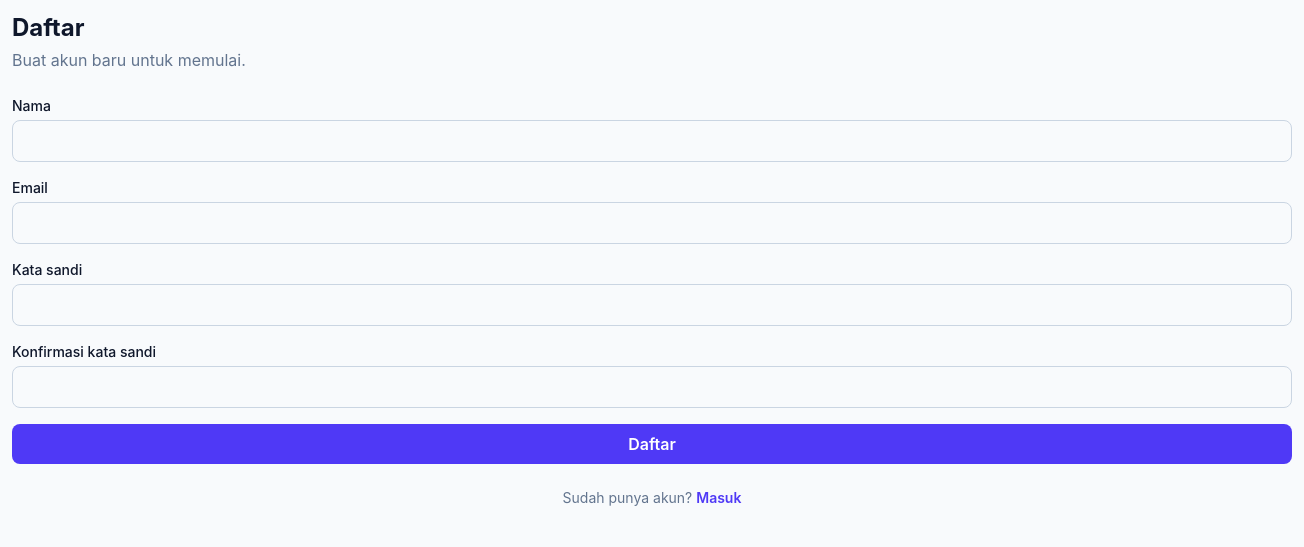
Test case: RegisterPage › menampilkan pesan jika konfirmasi kata sandi tidak sama
Type "Gian" into the field labelled "Nama". click: [652, 141]
box: [12,120,1292,162]
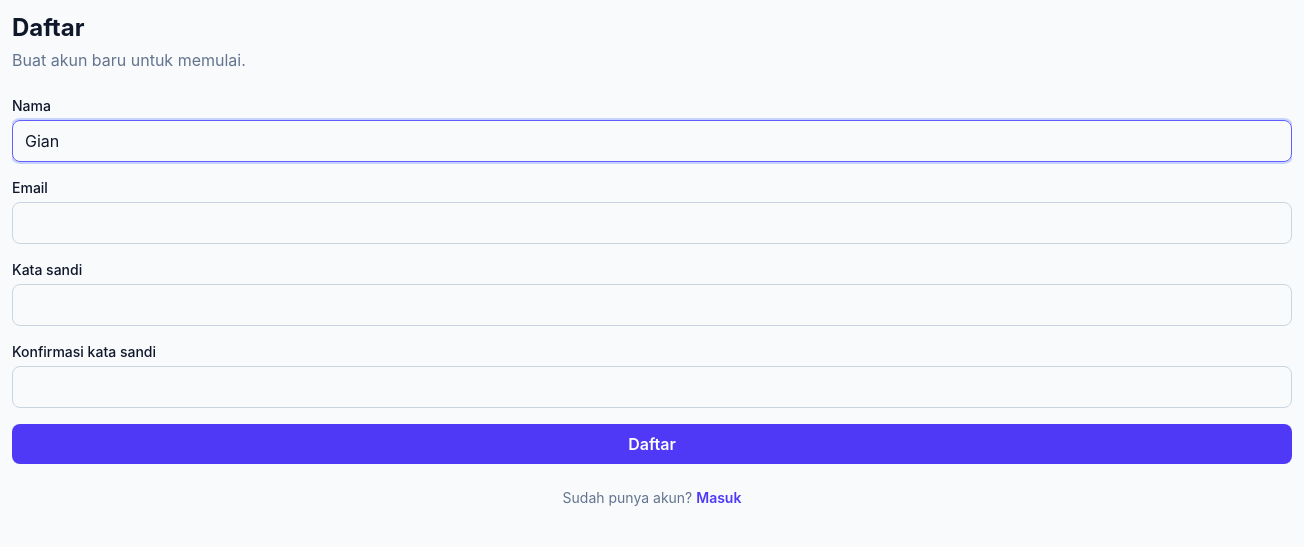
Type "g@mail.com" into the field labelled "Email". click: [652, 223]
box: [12,202,1292,244]
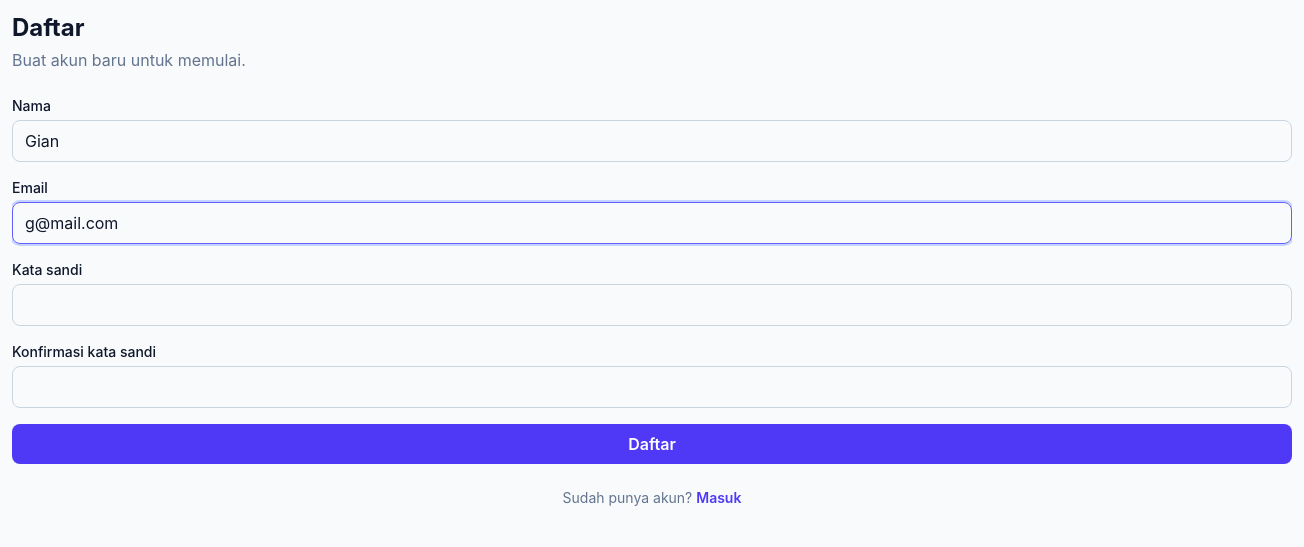
Type "rahasia" into the password field labelled "Kata sandi". click: [652, 305]
box: [12,284,1292,326]
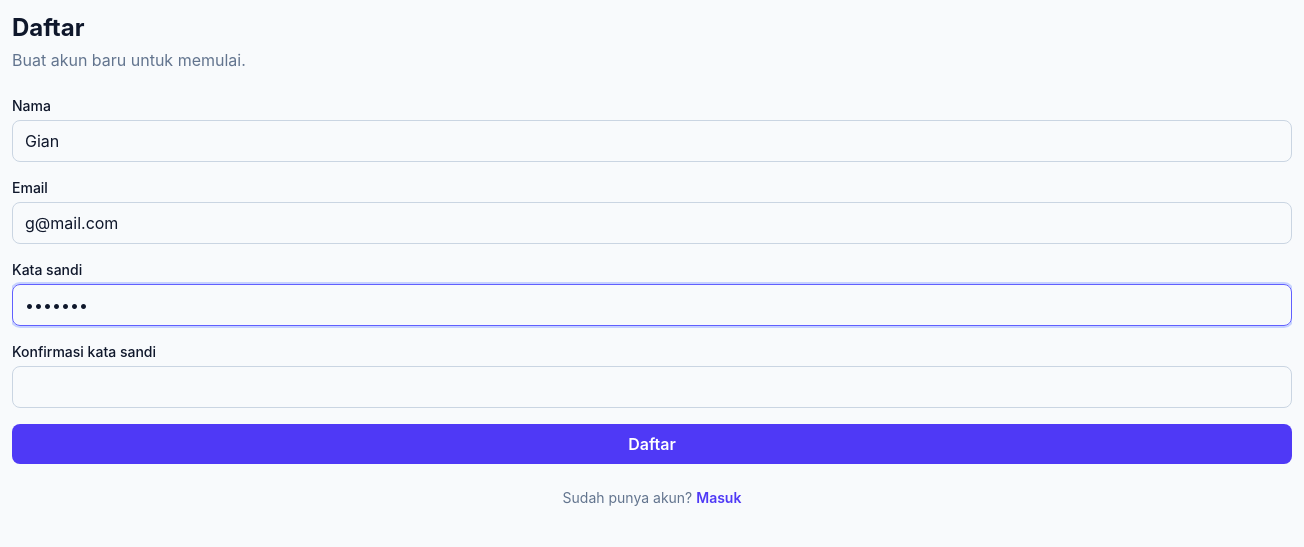
Type "beda" into the password field labelled "Konfirmasi kata sandi". click: [652, 387]
box: [12,366,1292,408]
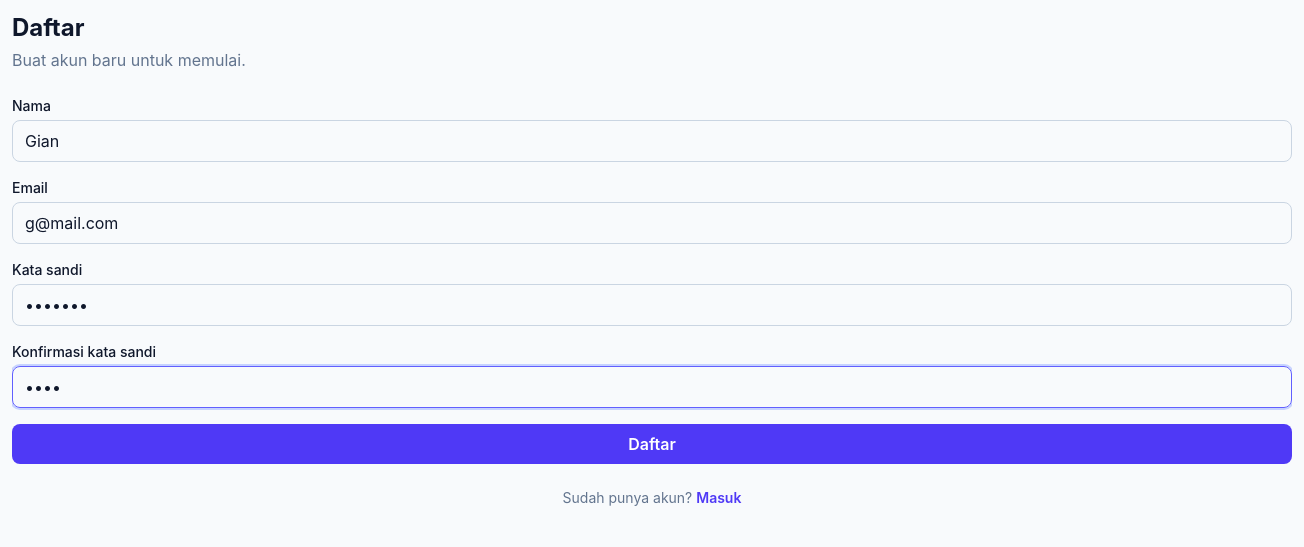
Click the button "Daftar". click: [652, 444]
box: [12,424,1292,464]
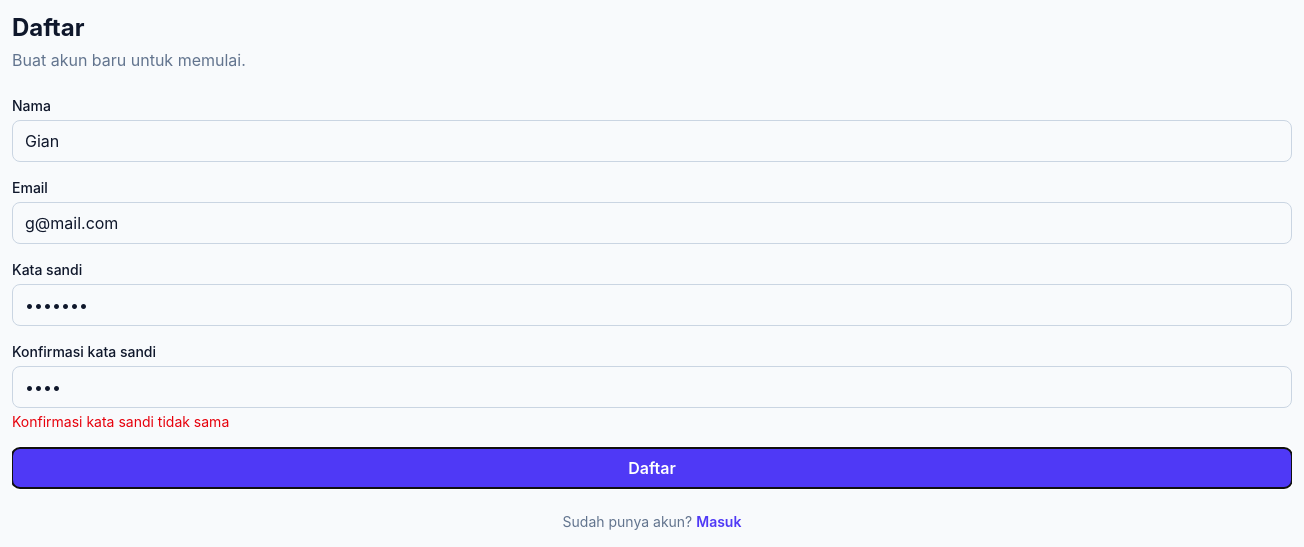
Expected: the text "Konfirmasi kata sandi tidak sama" is shown, [12,413,229,430]
